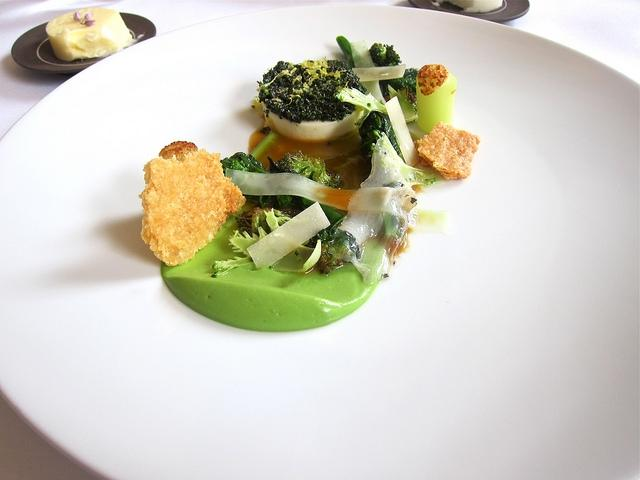broccoli: (256, 57, 388, 128), (276, 150, 340, 208), (305, 228, 361, 274), (358, 110, 399, 158), (236, 207, 298, 238), (378, 68, 419, 114), (220, 152, 270, 175), (369, 42, 402, 66), (263, 208, 292, 232)
